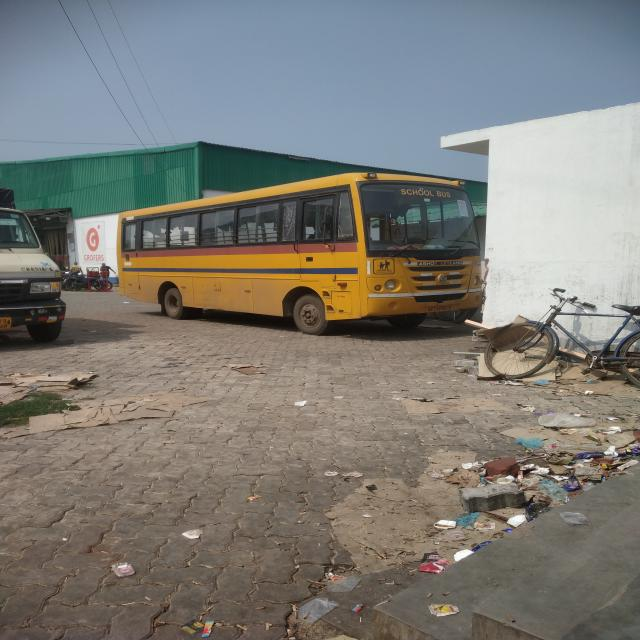Bus: (117, 172, 482, 334)
Truck: (0, 189, 65, 342)
